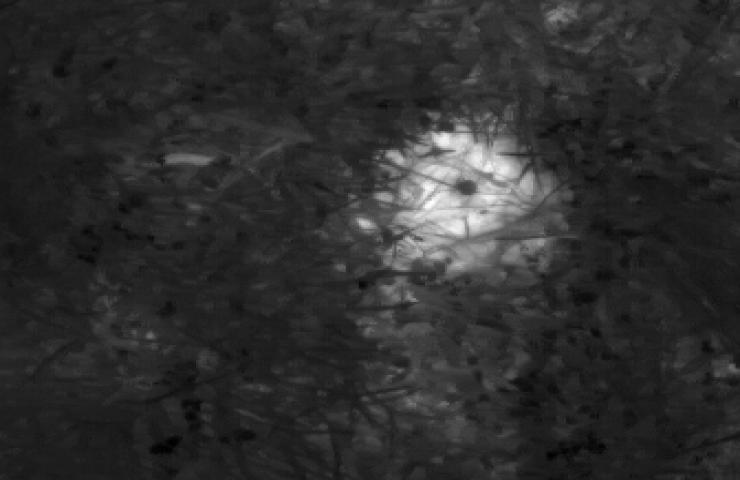landmines: (370, 102, 572, 290)
